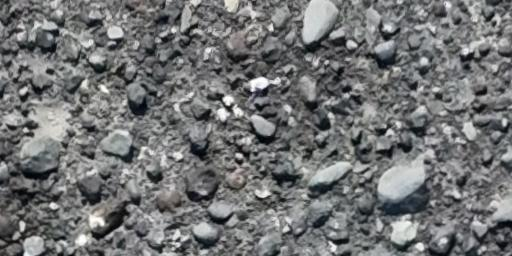skua: (81, 184, 141, 241)
